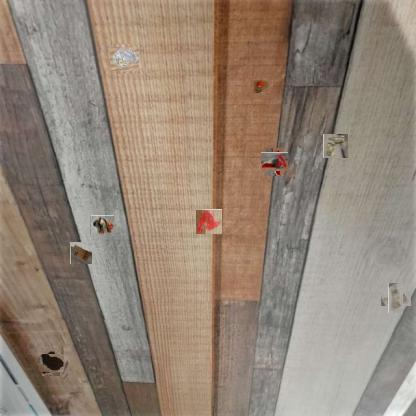dirty: (111, 45, 138, 73), (323, 134, 348, 158), (263, 150, 286, 174), (90, 215, 115, 236), (385, 287, 407, 310), (70, 242, 92, 264), (250, 77, 270, 95)
liquid: (197, 209, 223, 234), (40, 352, 62, 374)
